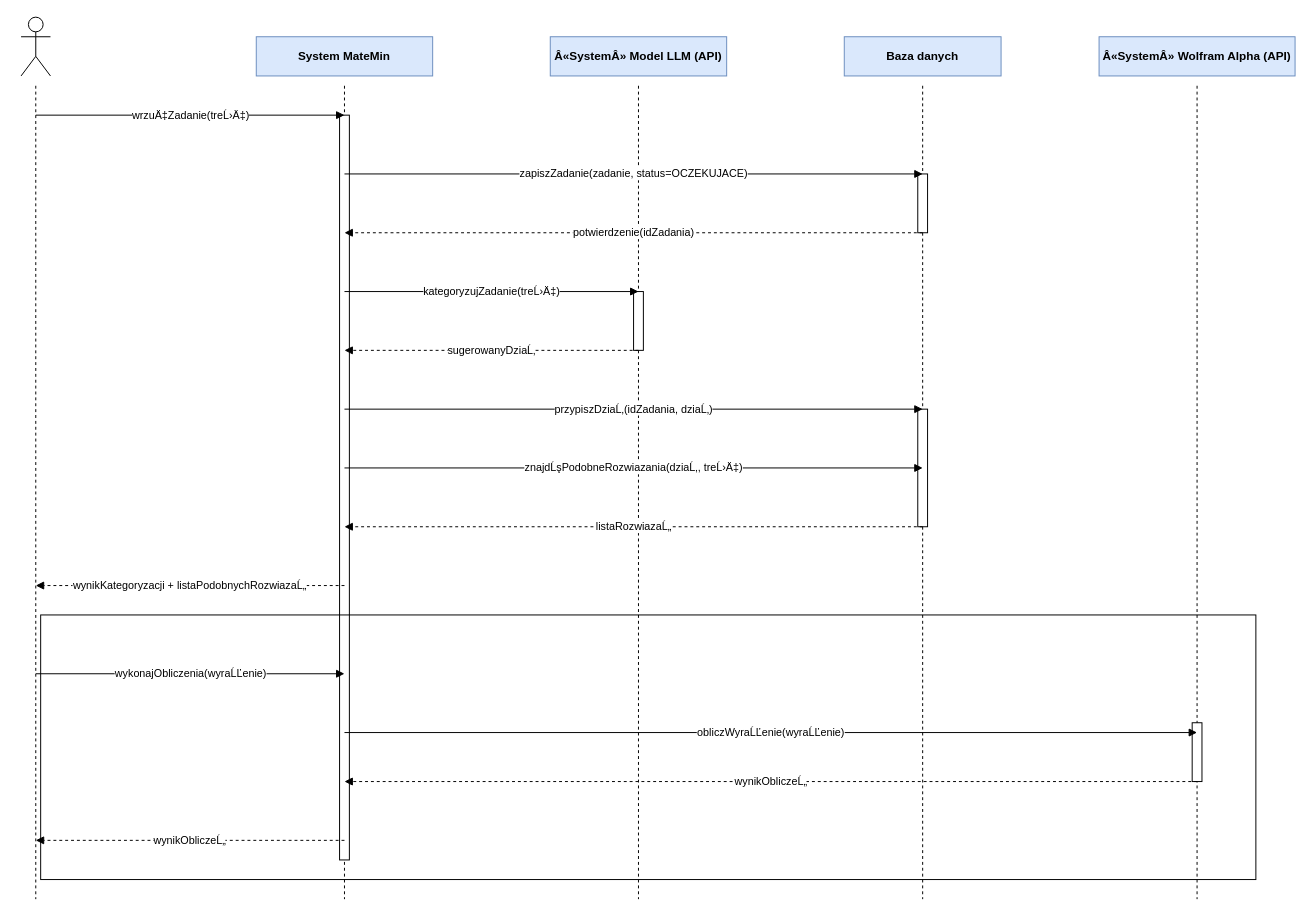
Some shapes in this 1312 by 917 pixel diagram are drawn without their labels. Here are the shapes that lost their labels. From the top down, the box of each, then its label:
(20, 16, 50, 76): UczeĹ„
(40, 614, 1256, 880): opt [uczeĹ„ chce wykonaÄ‡ obliczenia]
